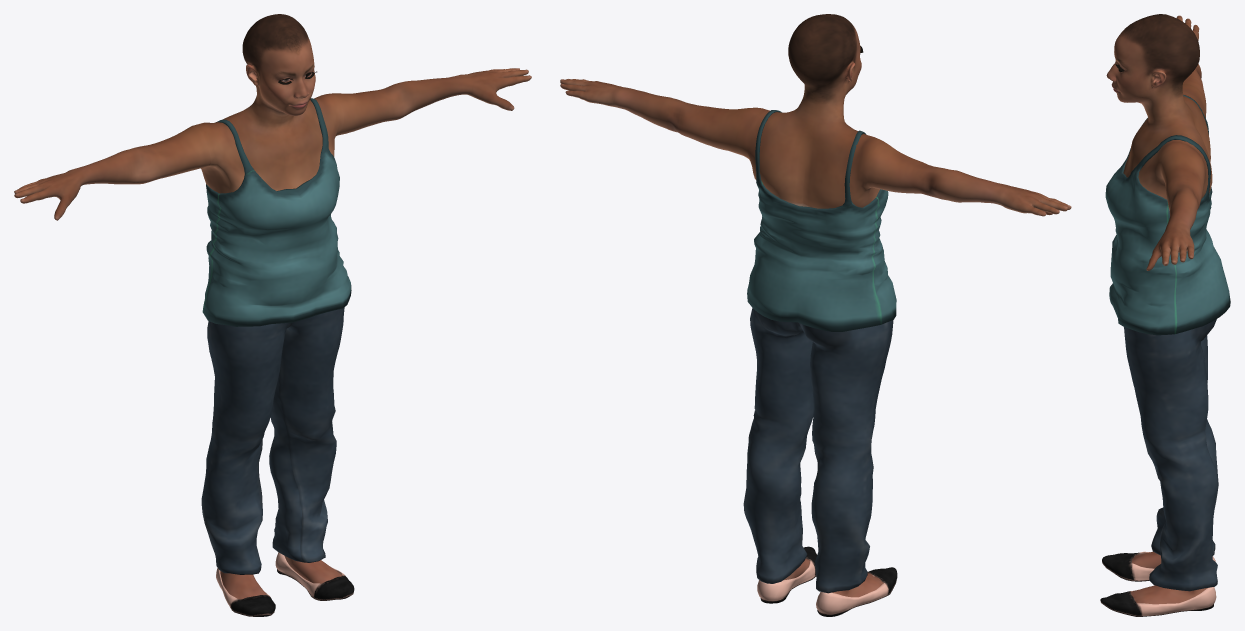
The model's file is BGFemale3.obj.
The picture shows the model from 3 angles, left to right: view 1: azimuth 30°, elevation 25°; view 2: azimuth 150°, elevation 25°; view 3: azimuth 270°, elevation 25°; orthographic projection.
Visible parts, largest first — view 1: Bottoms, Body, Tops, Shoes; view 2: Bottoms, Body, Tops, Shoes; view 3: Bottoms, Body, Tops, Shoes.
Part boxes in pixels (<box>): Bottoms: <box>201,307,344,574</box>; Body: <box>14,14,531,599</box>; Tops: <box>202,98,351,326</box>; Shoes: <box>216,552,354,616</box>; Bottoms: <box>743,308,893,593</box>; Body: <box>560,14,1071,597</box>; Tops: <box>747,110,896,331</box>; Shoes: <box>757,546,897,616</box>; Bottoms: <box>1124,319,1218,591</box>; Body: <box>1106,14,1212,604</box>; Tops: <box>1105,95,1230,335</box>; Shoes: <box>1100,551,1216,616</box>.
Size of the model in its own units: 149 by 161 by 32.99.
